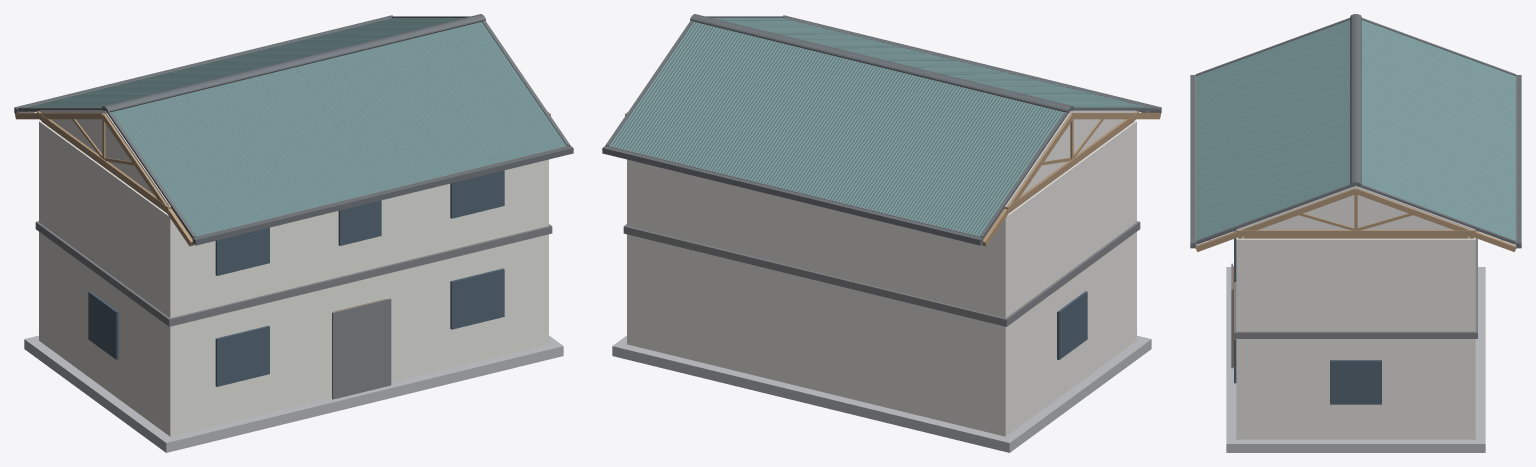
Rendered from Agua_Corr_1220_Large_Two_Storey_10x6.glb.
3 views of the same model, side by side, from view 1: azimuth 30°, elevation 25°; view 2: azimuth 150°, elevation 25°; view 3: azimuth 270°, elevation 25° (orthographic). The views are drawn at different scales.
Visible parts, largest first — view 1: GroundFloor_Walls, Foundation, RoofSheet_04, RoofSheet_09, RoofSheet_05, RoofSheet_08, RoofSheet_06, RoofSheet_07, RoofSheet_02, RoofSheet_03, RoofSheet_10, Door_Frame (+29 smaller); view 2: GroundFloor_Walls, Foundation, RoofSheet_14, RoofSheet_19, RoofSheet_15, RoofSheet_18, RoofSheet_16, RoofSheet_17, RoofSheet_12, RoofSheet_13, RoofSheet_20, RoofSheet_11 (+23 smaller); view 3: GroundFloor_Walls, Foundation, Gable_Wall_Right, RoofSheet_02, RoofSheet_12, RoofSheet_03, RoofSheet_08, RoofSheet_09, RoofSheet_13, RoofSheet_18, RoofSheet_19, RoofSheet_05 (+26 smaller).
Part boxes in pixels (left/top/right/bottom): GroundFloor_Walls: left=39, top=121, right=548, bottom=436; Foundation: left=24, top=335, right=563, bottom=452; RoofSheet_04: left=221, top=76, right=343, bottom=209; RoofSheet_09: left=408, top=30, right=530, bottom=163; RoofSheet_05: left=259, top=67, right=380, bottom=200; RoofSheet_08: left=371, top=40, right=492, bottom=172; RoofSheet_06: left=296, top=58, right=417, bottom=191; RoofSheet_07: left=334, top=49, right=455, bottom=181; RoofSheet_02: left=147, top=94, right=268, bottom=227; RoofSheet_03: left=184, top=85, right=305, bottom=218; RoofSheet_10: left=446, top=22, right=566, bottom=154; Door_Frame: left=332, top=298, right=391, bottom=399; GroundFloor_Walls: left=627, top=121, right=1136, bottom=436; Foundation: left=612, top=335, right=1151, bottom=452; RoofSheet_14: left=832, top=76, right=954, bottom=209; RoofSheet_19: left=645, top=30, right=767, bottom=163; RoofSheet_15: left=795, top=67, right=916, bottom=200; RoofSheet_18: left=683, top=40, right=804, bottom=172; RoofSheet_16: left=758, top=58, right=879, bottom=191; RoofSheet_17: left=720, top=49, right=841, bottom=181; RoofSheet_12: left=907, top=94, right=1028, bottom=227; RoofSheet_13: left=870, top=85, right=991, bottom=218; RoofSheet_20: left=609, top=22, right=729, bottom=154; RoofSheet_11: left=945, top=103, right=1063, bottom=236; GroundFloor_Walls: left=1236, top=236, right=1475, bottom=439; Foundation: left=1226, top=267, right=1485, bottom=452; Gable_Wall_Right: left=1236, top=186, right=1475, bottom=229; RoofSheet_02: left=1196, top=36, right=1350, bottom=109; RoofSheet_12: left=1361, top=36, right=1515, bottom=109; RoofSheet_03: left=1196, top=53, right=1350, bottom=125; RoofSheet_08: left=1196, top=136, right=1350, bottom=209; RoofSheet_09: left=1196, top=153, right=1350, bottom=225; RoofSheet_13: left=1361, top=53, right=1515, bottom=125; RoofSheet_18: left=1361, top=136, right=1515, bottom=209; RoofSheet_19: left=1361, top=153, right=1515, bottom=225; RoofSheet_05: left=1196, top=86, right=1350, bottom=159.
Bounding box in the file's own units: 10.5 × 7.36 × 8.3.
